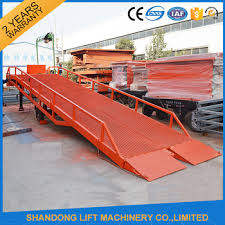Yard Ramp: (5, 64, 224, 183)
